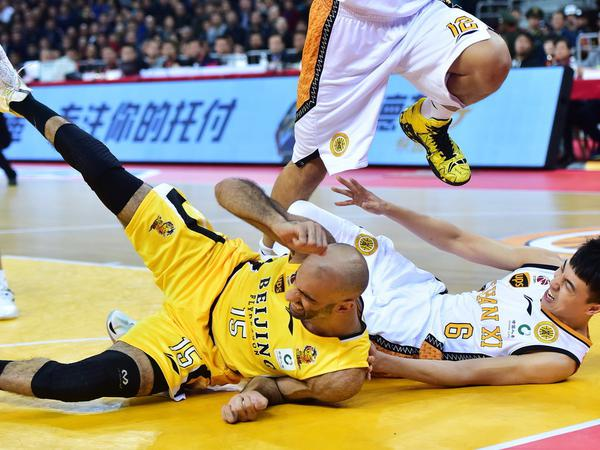10+: (2, 1, 599, 222)
down: (1, 45, 384, 422), (293, 170, 600, 400)
